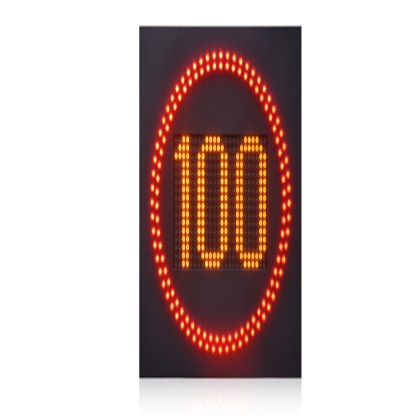limit2: (146, 46, 298, 363)
